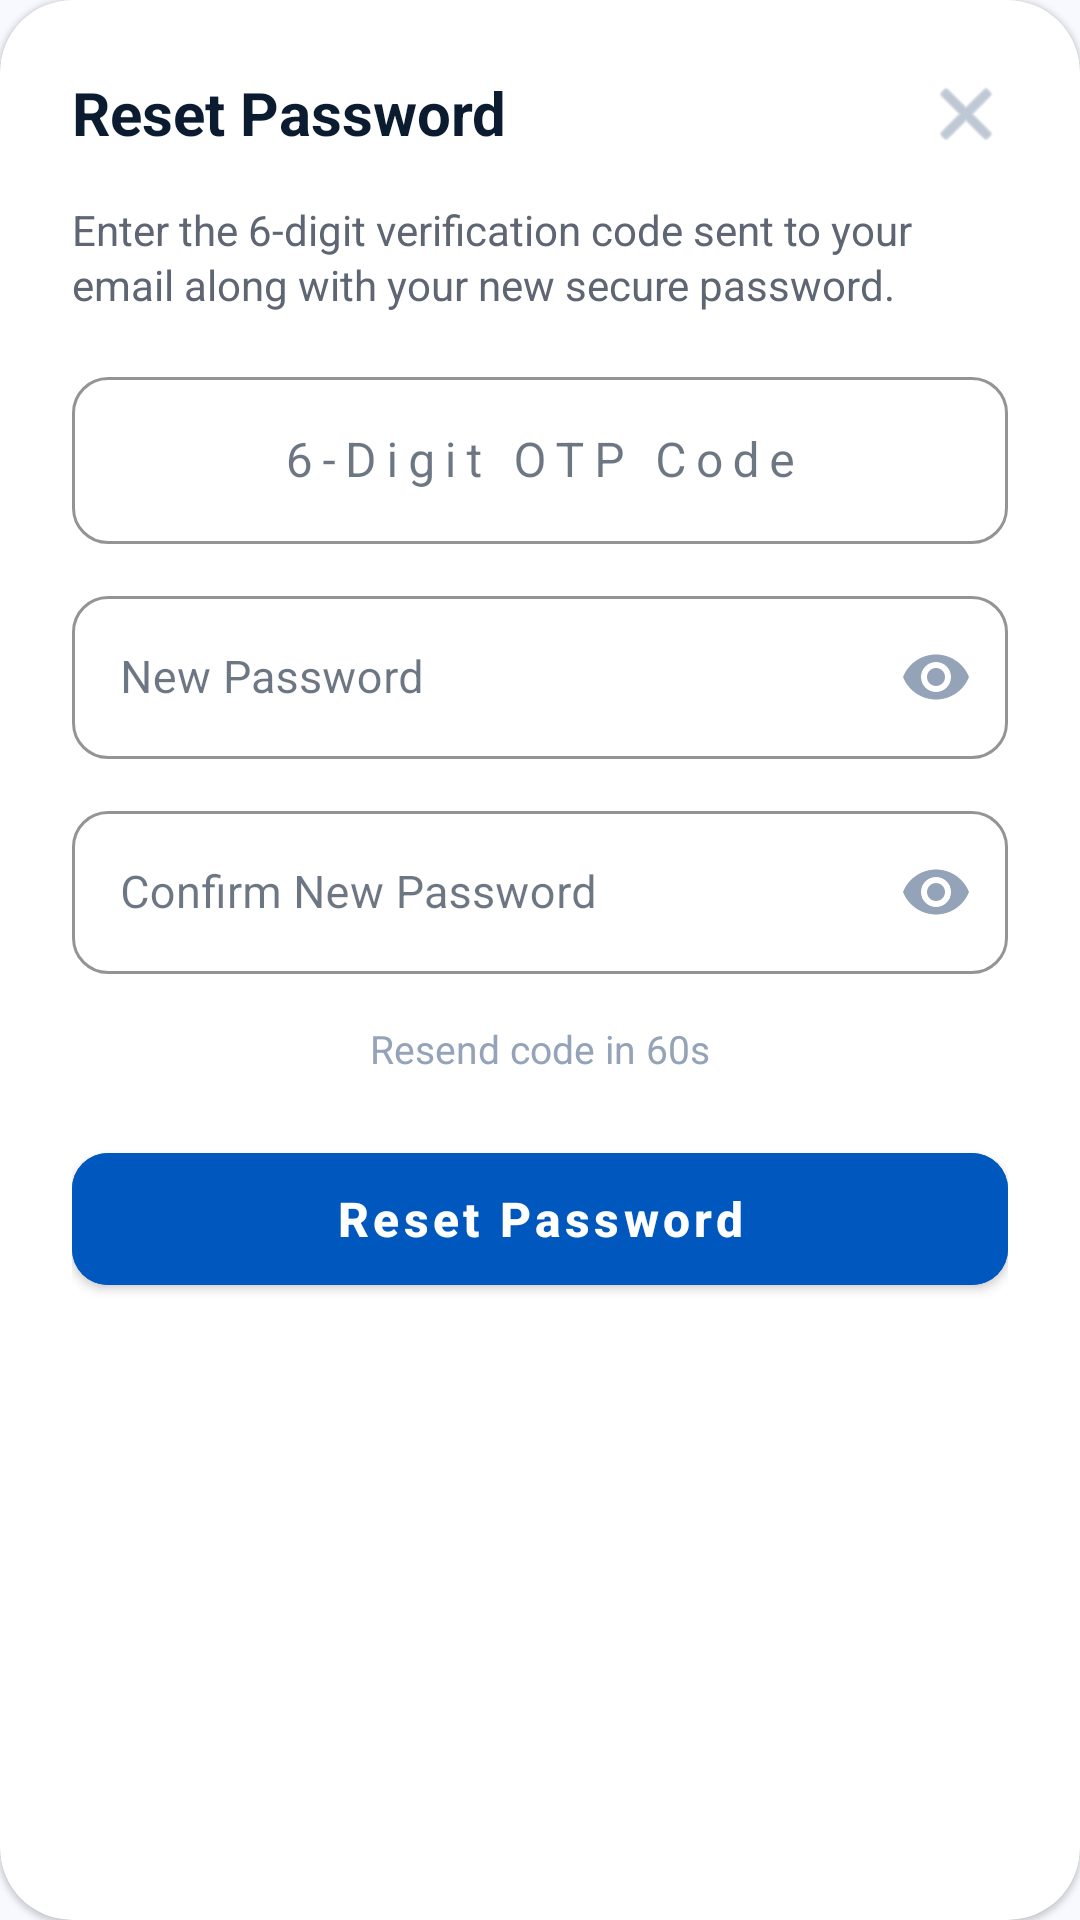

Screen size 1080px x 1920px. Icon name, then its center in pixels as [x,y]:
Close Dialog: [966,114]
